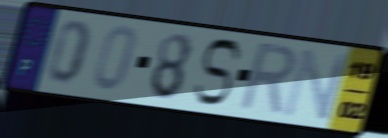0: (45, 17, 94, 89), (90, 24, 139, 96)
8: (148, 31, 194, 102)
N: (280, 47, 353, 122)
R: (235, 40, 300, 120)
S: (191, 36, 244, 108)
